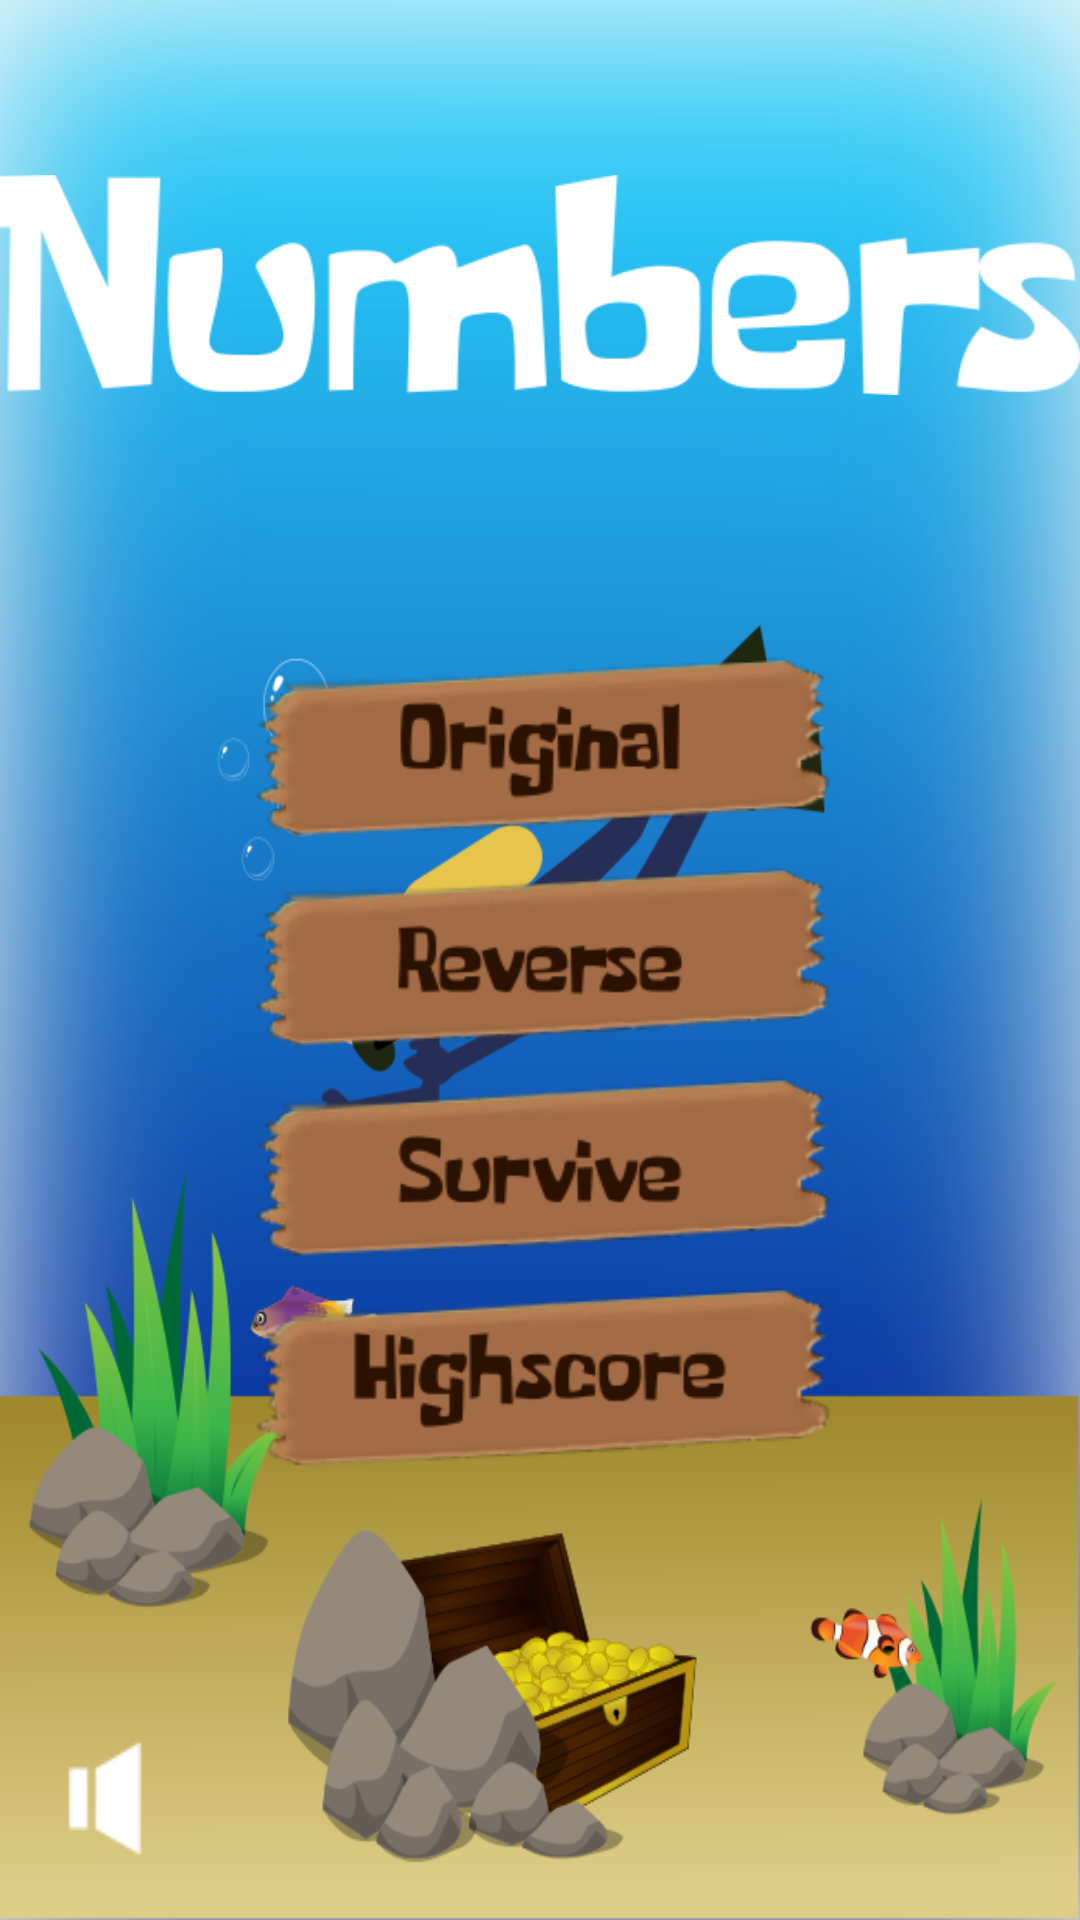

Icon click points for this 1080px x 1920px phone screenshot, format point (x, y):
musicon: point (123, 1788)
